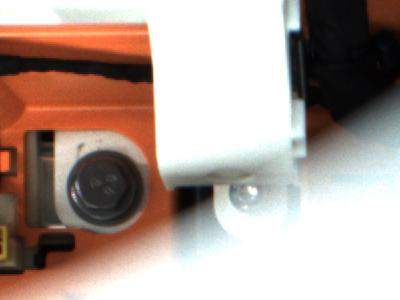nut_b: (67, 149, 157, 232)
